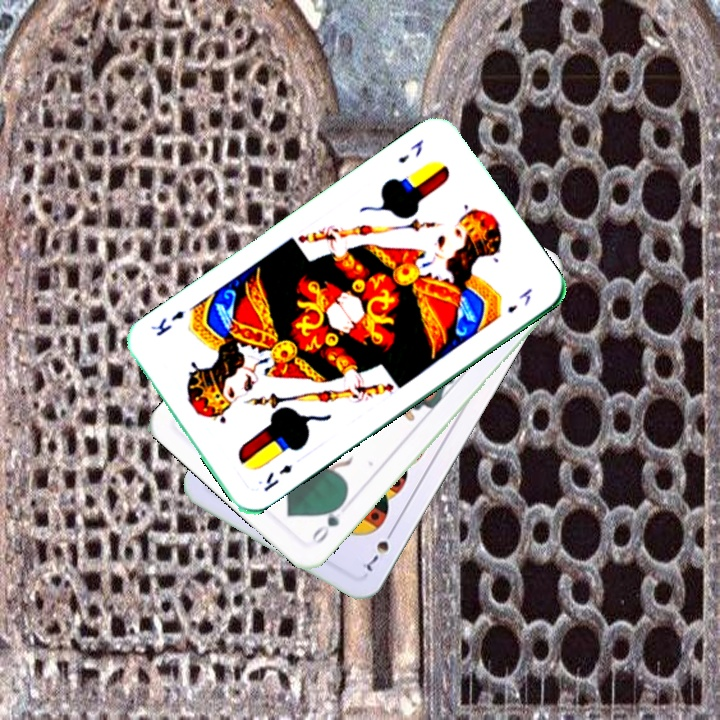EK: (260, 460, 295, 495), (393, 136, 426, 166)
GO: (307, 496, 348, 547)
S7: (358, 523, 398, 575)
